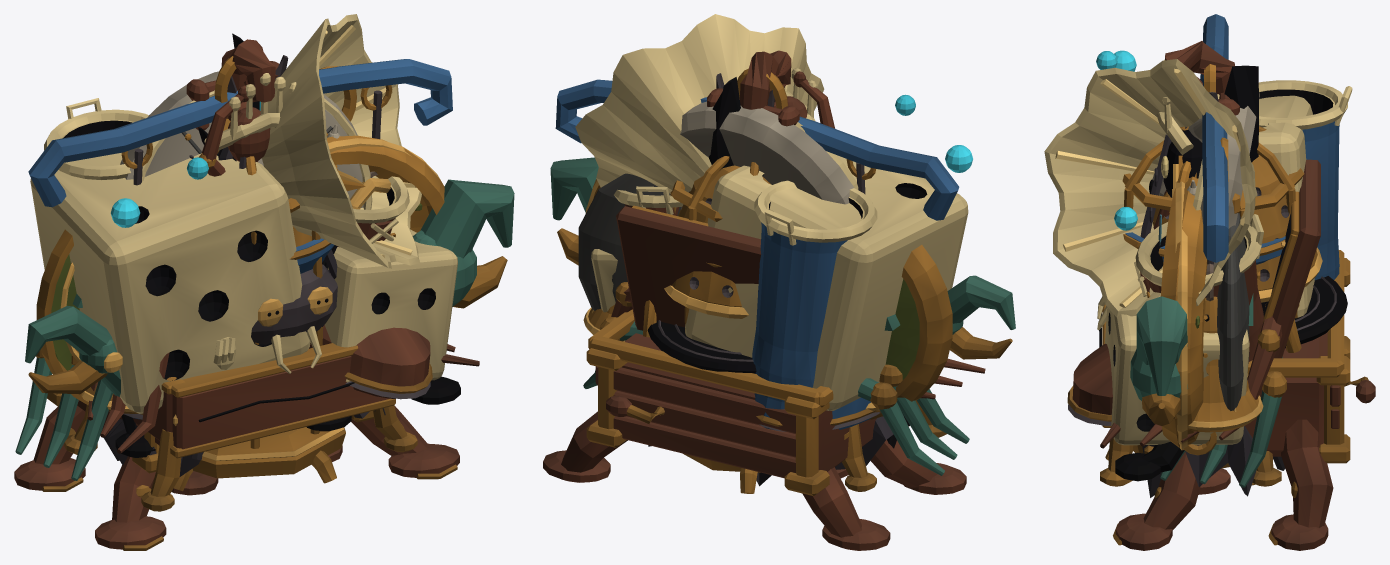
Rendered from rare_import_batch.fbx.
The picture shows the model from 3 angles, left to right: view 1: azimuth 30°, elevation 25°; view 2: azimuth 150°, elevation 25°; view 3: azimuth 270°, elevation 25°; orthographic projection. The views are drawn at different scales.
Parts seen in each view (by area): view 1: marrow_dice, pale_gramophone, music_box_dancer, anchor_crab, chime_triplets, sleepwalker_shoes, grave_compass, thorn_reliquary, thimble_spider, veil_mourner, sundial_sentinel, hollow_violin (+2 smaller); view 2: pale_gramophone, marrow_dice, sleepwalker_shoes, music_box_dancer, anchor_crab, grave_compass, sundial_sentinel, chime_triplets, thimble_spider, thorn_reliquary, hollow_violin, raven_quill (+1 smaller); view 3: pale_gramophone, sleepwalker_shoes, grave_compass, marrow_dice, anchor_crab, chime_triplets, music_box_dancer, thimble_spider, thorn_reliquary, veil_mourner, raven_quill, hollow_violin (+2 smaller).
Boxes of the visible parts, box(x1,y1,x2,y2) form: marrow_dice: box(30, 153, 460, 457); pale_gramophone: box(14, 14, 459, 550); music_box_dancer: box(64, 85, 417, 511); anchor_crab: box(15, 179, 514, 480); chime_triplets: box(28, 59, 452, 413); sleepwalker_shoes: box(44, 98, 432, 419); grave_compass: box(36, 66, 444, 411); thorn_reliquary: box(174, 56, 345, 491); thimble_spider: box(78, 226, 479, 453); veil_mourner: box(102, 73, 385, 476); sundial_sentinel: box(120, 71, 372, 209); hollow_violin: box(171, 39, 342, 495); pale_gramophone: box(543, 14, 966, 550); marrow_dice: box(591, 94, 972, 425); sleepwalker_shoes: box(614, 180, 880, 431); music_box_dancer: box(616, 71, 946, 491); anchor_crab: box(550, 157, 1015, 475); grave_compass: box(578, 173, 952, 419); sundial_sentinel: box(680, 101, 858, 204); chime_triplets: box(555, 79, 959, 412); thimble_spider: box(611, 165, 985, 399); thorn_reliquary: box(670, 68, 787, 493); hollow_violin: box(707, 50, 848, 478); raven_quill: box(708, 73, 774, 169); pale_gramophone: box(1044, 59, 1375, 550); sleepwalker_shoes: box(1067, 80, 1352, 425); grave_compass: box(1160, 137, 1249, 450); marrow_dice: box(1096, 50, 1314, 481); anchor_crab: box(1130, 293, 1286, 487); chime_triplets: box(1188, 14, 1263, 432); music_box_dancer: box(1099, 159, 1320, 486); thimble_spider: box(1097, 154, 1322, 448); thorn_reliquary: box(1105, 64, 1304, 485); veil_mourner: box(1140, 59, 1285, 497); raven_quill: box(1161, 65, 1258, 212); hollow_violin: box(1165, 41, 1260, 494).
Bounding box in the file's own units: 4.53 × 4.1 × 2.77.
